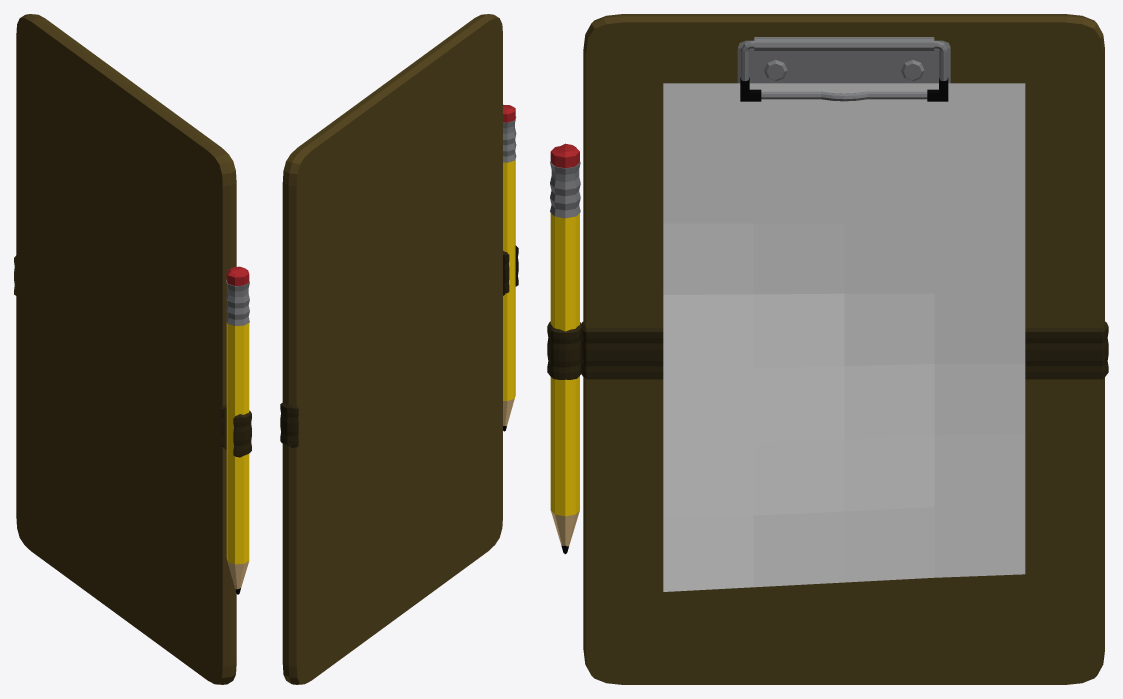
3 views of the same model, side by side, from view 1: azimuth 30°, elevation 25°; view 2: azimuth 150°, elevation 25°; view 3: azimuth 270°, elevation 25° (orthographic). The views are drawn at different scales.
Parts seen in each view (by area): view 1: Cube, Pencile, Cube.003; view 2: Cube, Pencile, Cube.002; view 3: Plane, Cube, Pencile, Cube.002, Plane.001, Cylinder, Cube.003, Cylinder.001.
Part boxes in pixels (x1,y1,x2,y2): Cube: [16, 14, 236, 684]; Pencile: [226, 266, 249, 594]; Cube.003: [224, 409, 251, 457]; Cube: [282, 14, 502, 684]; Pencile: [503, 104, 516, 431]; Cube.002: [280, 255, 505, 447]; Plane: [663, 83, 1025, 591]; Cube: [583, 14, 1104, 684]; Pencile: [550, 143, 580, 554]; Cube.002: [581, 321, 1108, 379]; Plane.001: [737, 40, 950, 83]; Cylinder: [741, 37, 947, 80]; Cube.003: [547, 321, 581, 379]; Cylinder.001: [761, 91, 927, 101].
Size of the model in its own units: 0.8948 by 9.13 by 6.97.
